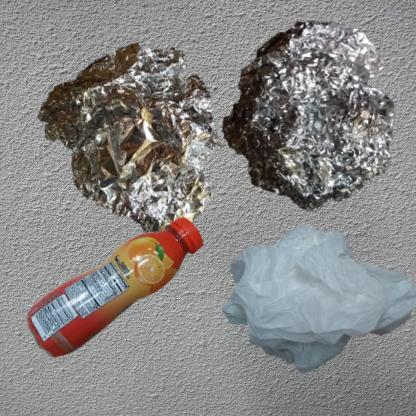aluminio: (10, 10, 272, 269), (213, 10, 407, 223)
bolsa: (213, 213, 416, 396)
botella: (10, 213, 259, 386)
